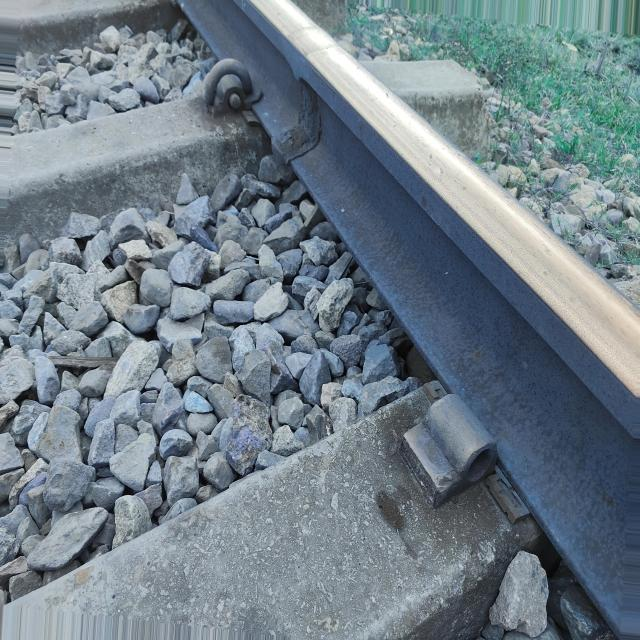Good Fasteners: (379, 384, 515, 517), (172, 50, 273, 154)
